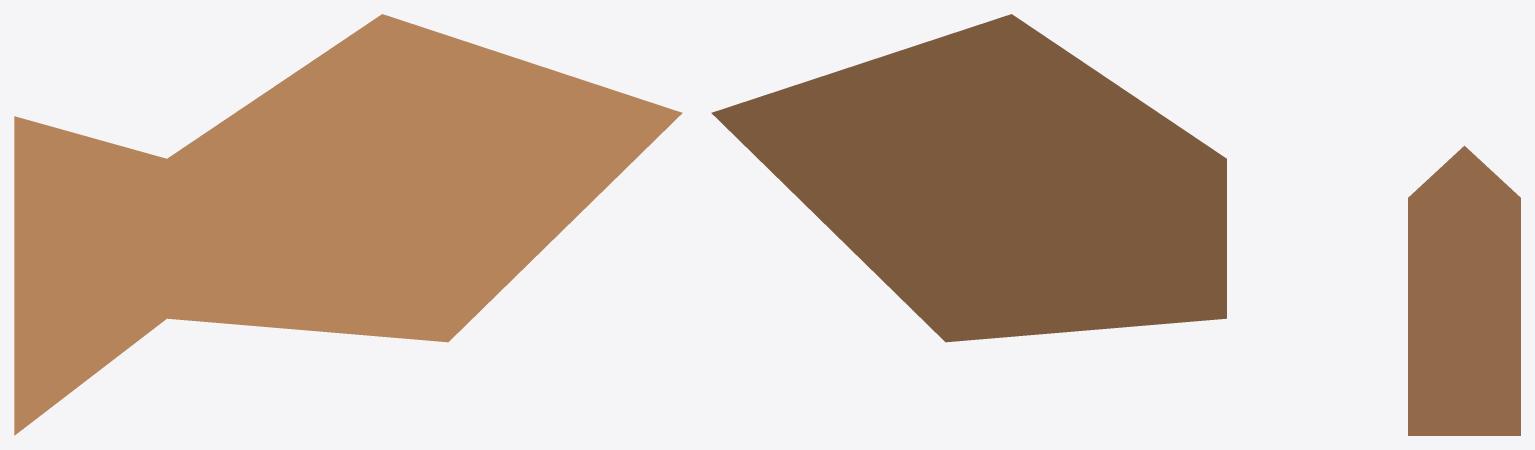
File: fish-orange.glb
3 renders of one model, left to right at view 1: azimuth 30°, elevation 25°; view 2: azimuth 150°, elevation 25°; view 3: azimuth 270°, elevation 25°, orthographic. The views are drawn at different scales.
Visible parts, largest first — view 1: FishOrange; view 2: FishOrange; view 3: FishOrange.
Boxes of the visible parts, x1,y1,x2,y2 form: FishOrange: (14, 14, 682, 435); FishOrange: (711, 14, 1226, 342); FishOrange: (1408, 146, 1520, 435).
Bounding box in the file's own units: 1.75 × 0.8 × 0.3.
